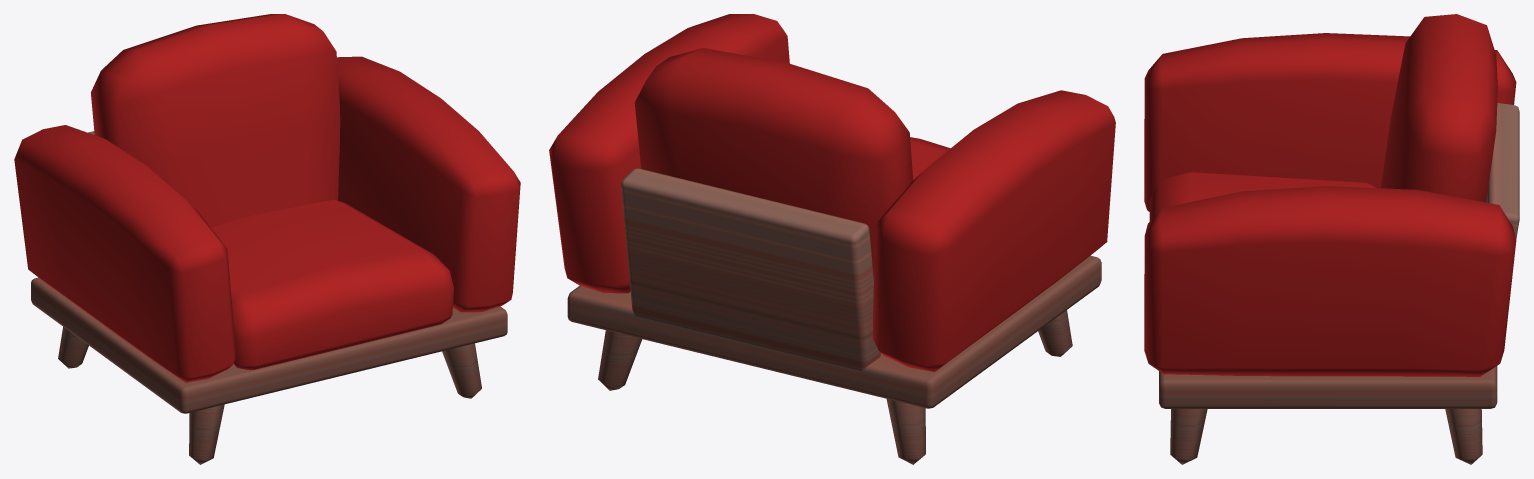
The model's file is armchair-02.glb.
3 views of the same model, side by side, from view 1: azimuth 30°, elevation 25°; view 2: azimuth 150°, elevation 25°; view 3: azimuth 270°, elevation 25° (orthographic). The views are drawn at different scales.
Parts seen in each view (by area): view 1: Armchair_02; view 2: Armchair_02; view 3: Armchair_02.
Boxes of the visible parts, x1,y1,x2,y2 form: Armchair_02: (14,14,520,464); Armchair_02: (549,14,1115,464); Armchair_02: (1144,14,1519,464).
Bounding box in the file's own units: 1.05 × 0.8659 × 0.854.
2 materials, 1 textured.
